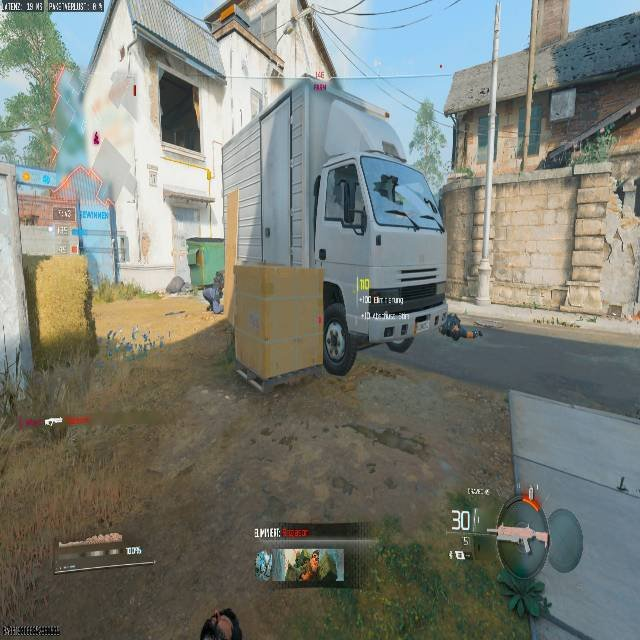player: (202, 270, 225, 312)
